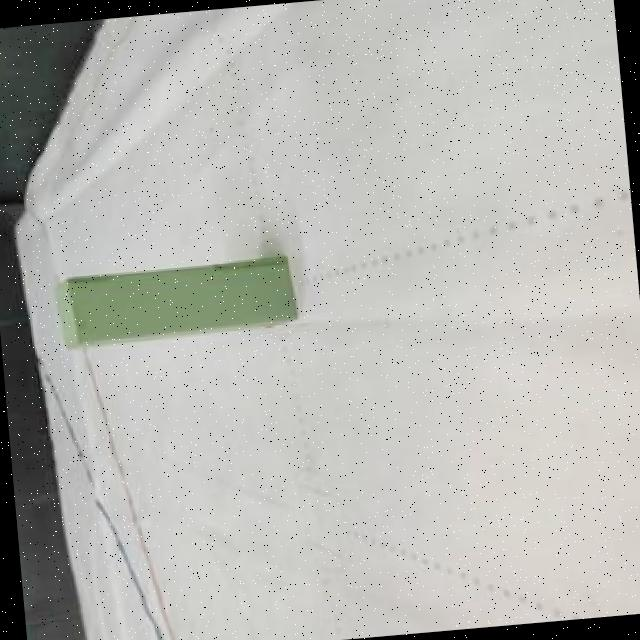greenbox: (50, 251, 298, 350)
